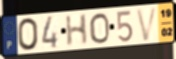4: (40, 15, 60, 50)
5: (116, 9, 135, 44)
H: (64, 12, 89, 48)
O: (16, 17, 41, 52), (88, 12, 111, 45)
V: (135, 6, 159, 43)
